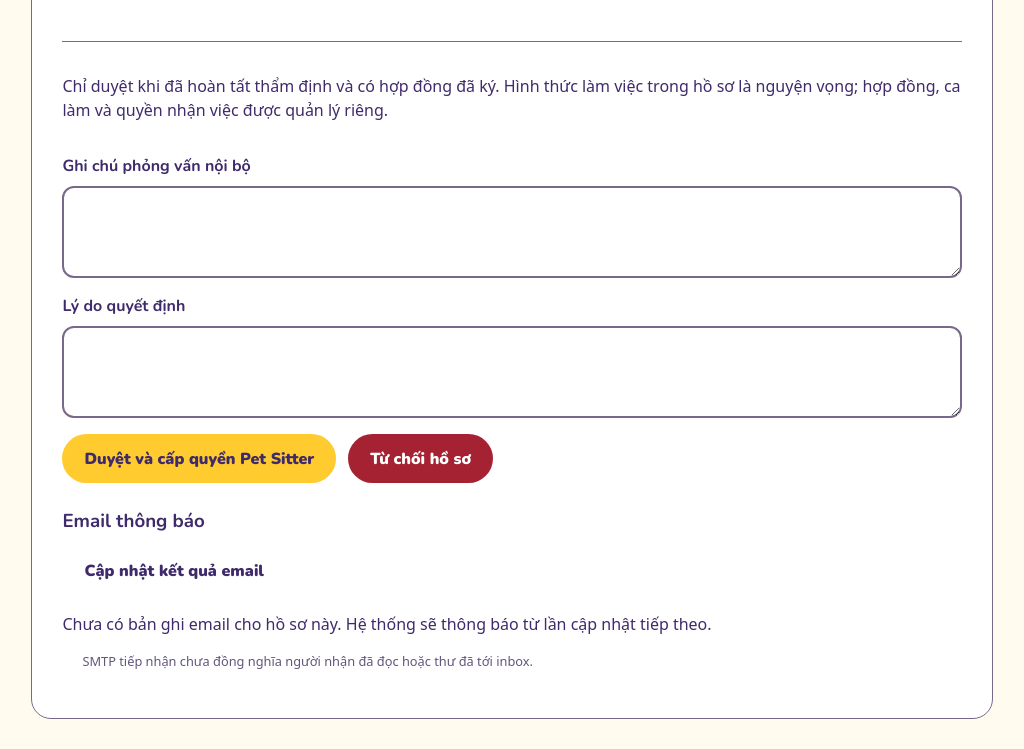
Test case: approval requires a decision reason and describes upgrading the verified account
(page scrolled)
Click the button "Duyệt và cấp quyền Pet Sitter". click: (199, 459)
box: [62,434,336,483]
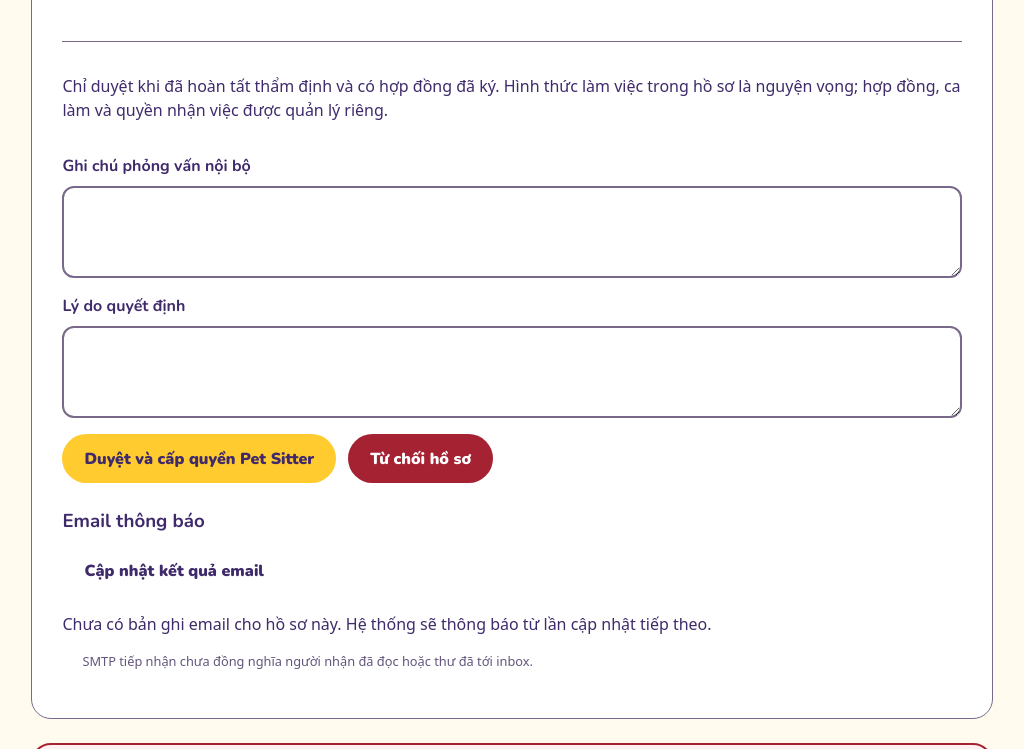
Type "Đã thẩm định và xác nhận hợp đồng ký." into the text box labelled "Lý do quyết định". click: (512, 372)
box: [62,326,962,418]
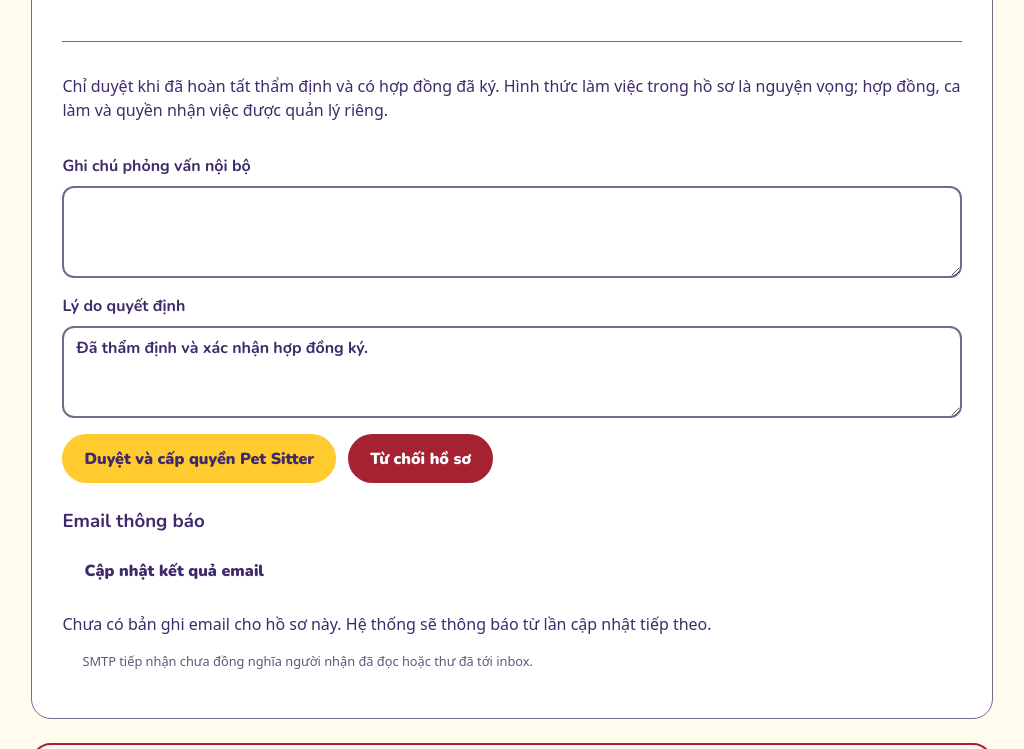
Click the button "Duyệt và cấp quyền Pet Sitter". click: (199, 459)
box: [62,434,336,483]
(page scrolled)
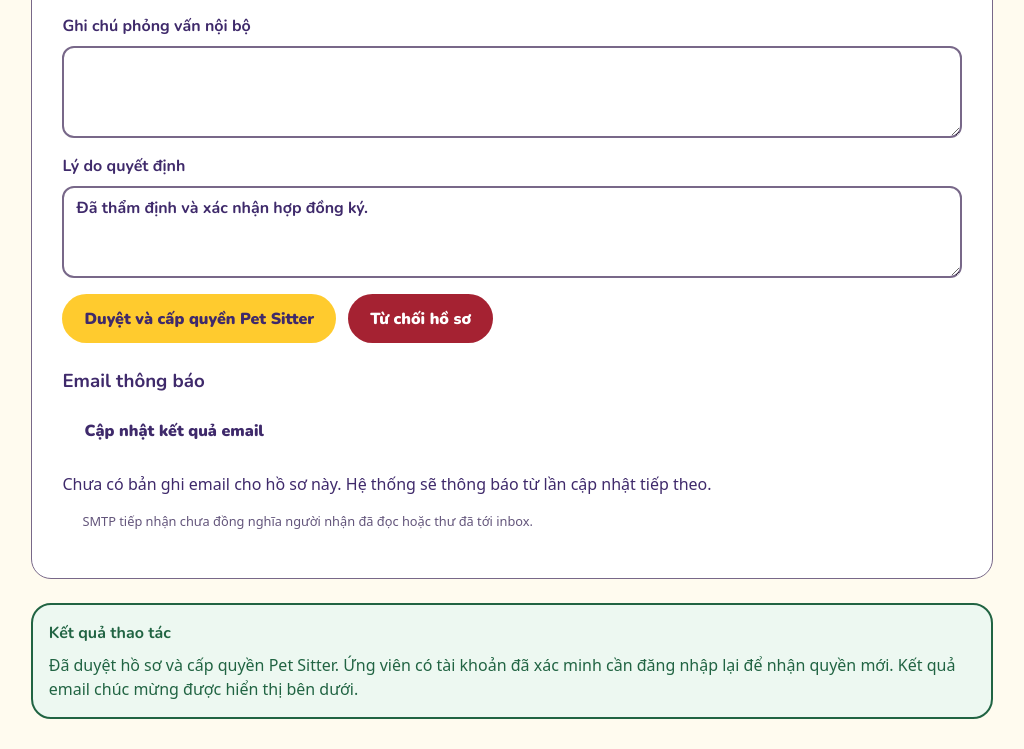
Now the text "Ứng viên có tài khoản đã xác minh cần đăng nhập lại" is shown, box [49,654,955,700]
